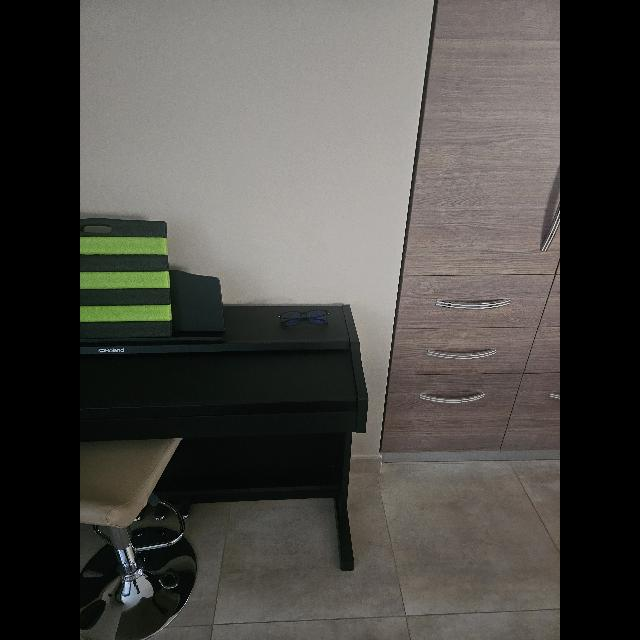glasses: (279, 310, 329, 326)
